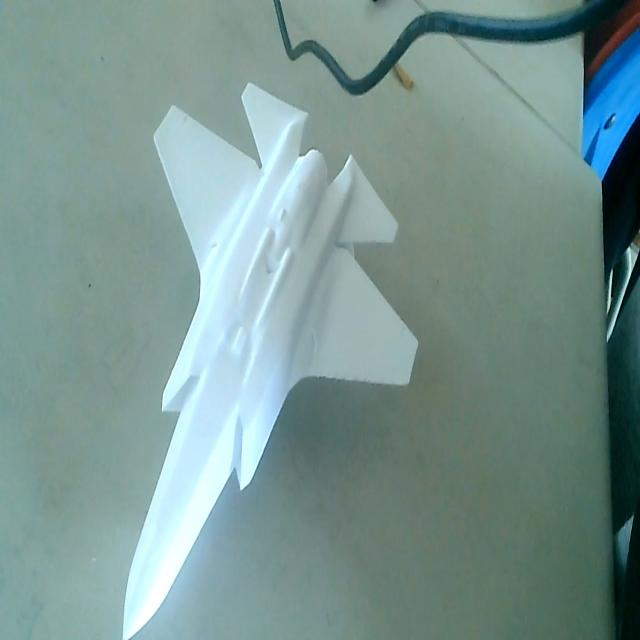Jet: (121, 70, 423, 640)
